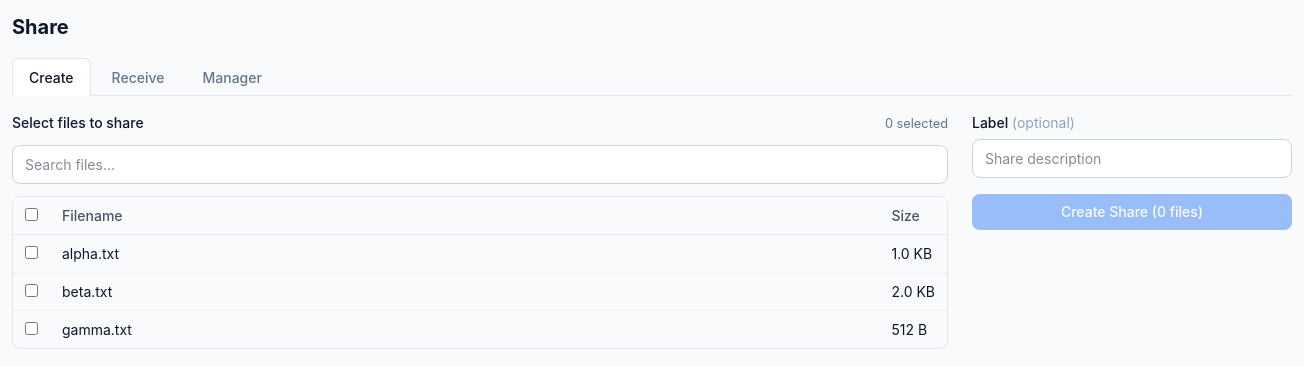
Test: Share page — row / checkbox selection › clicking a selected row deselects it
Check: the text "alpha.txt" is shown, box [50, 235, 879, 273]
Click the row "alpha.txt 1.0 KB" at x=480, y=254, box [13, 235, 947, 273]
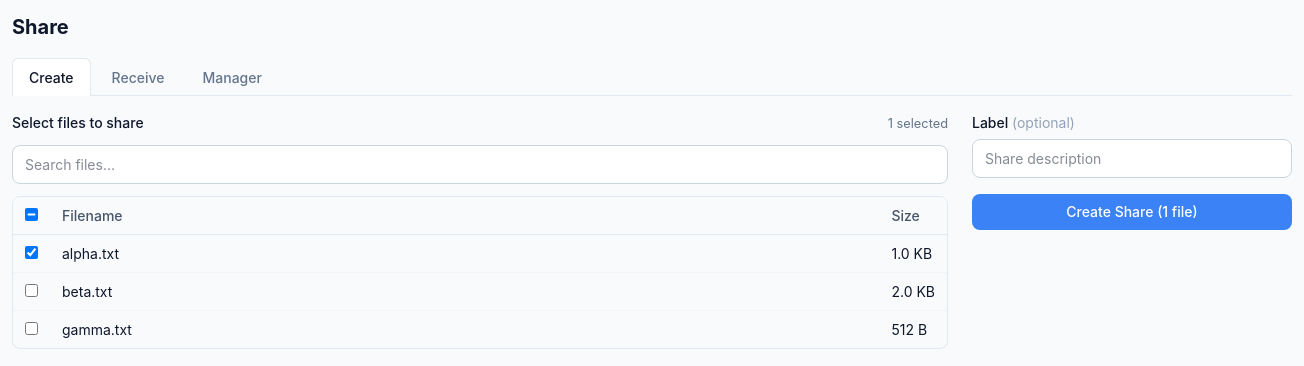
Click the row "alpha.txt 1.0 KB" at x=480, y=254, box [13, 235, 947, 273]
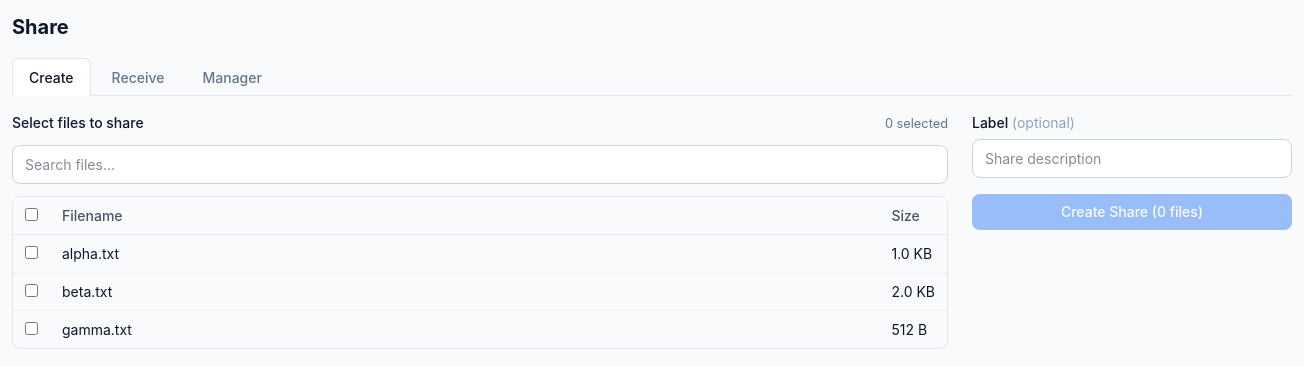
Check: the text "0 selected" is shown, box [885, 114, 948, 133]
